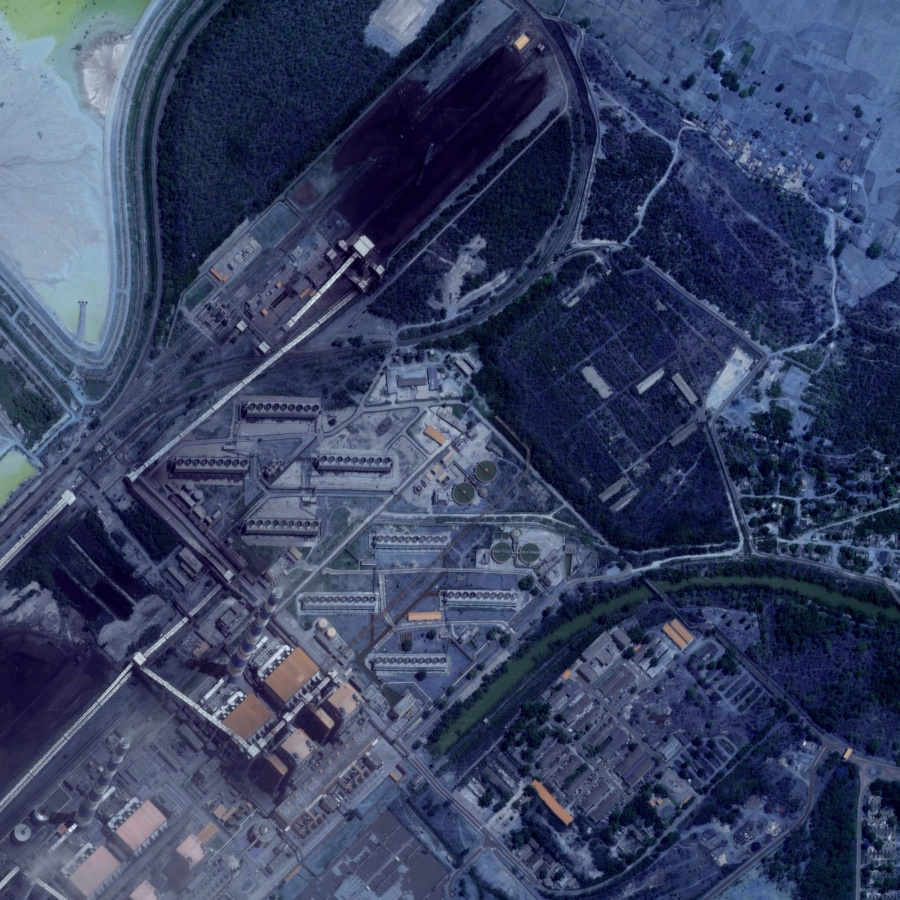PowerPlant: (286, 14, 565, 296)
